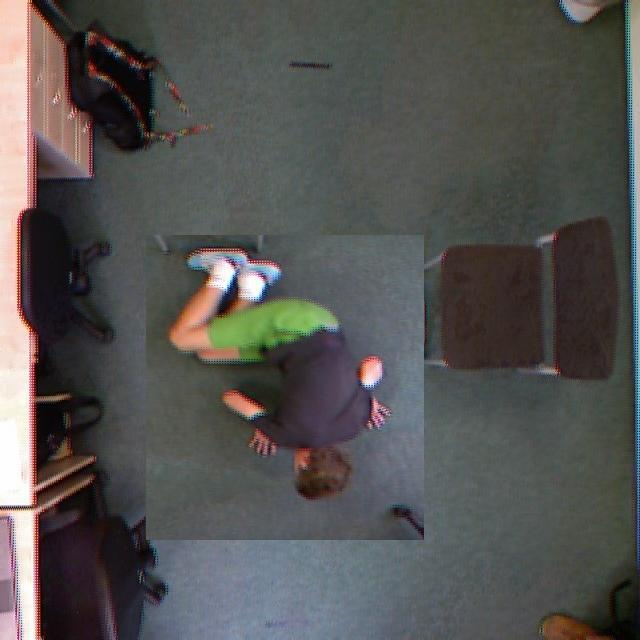Fall: (149, 263, 434, 522)
